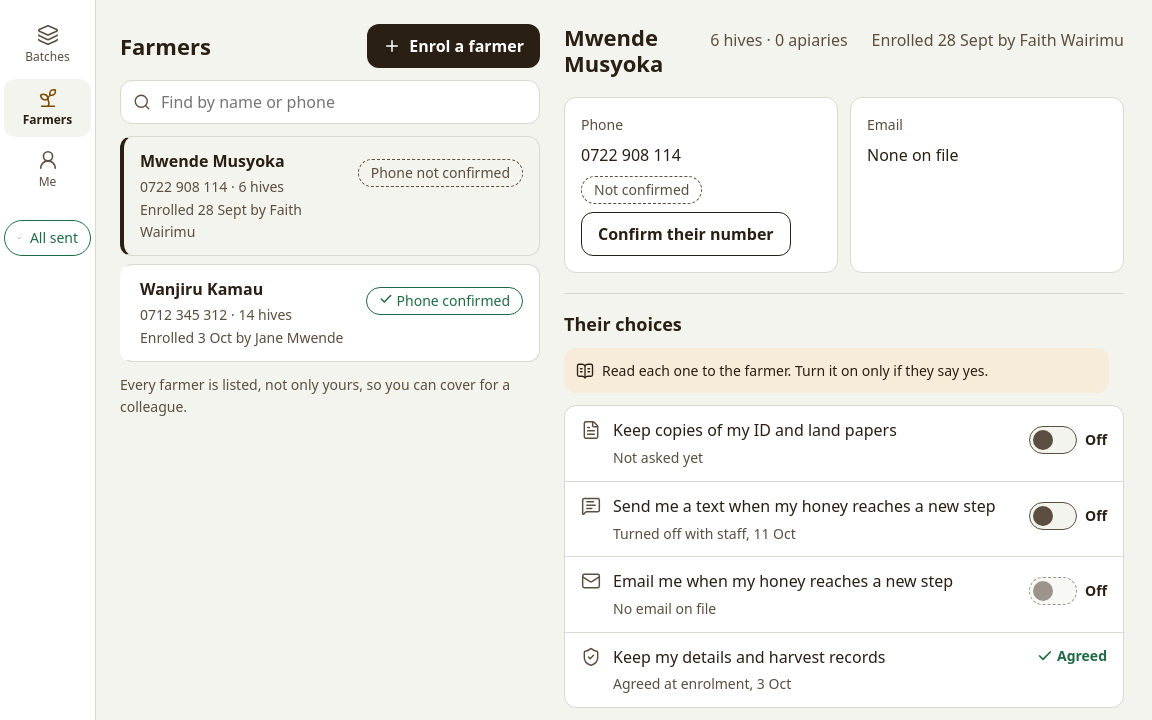
Test: Their choices (13 §4.5, D11) › the server's refusal of a farmer's own withdrawal says so, and can be removed
Click the switch named "Send me a text when my honey reaches a new step" in the row of "Turned off with staff, 11 Oct" at (1053, 516), box [1029, 494, 1077, 538]
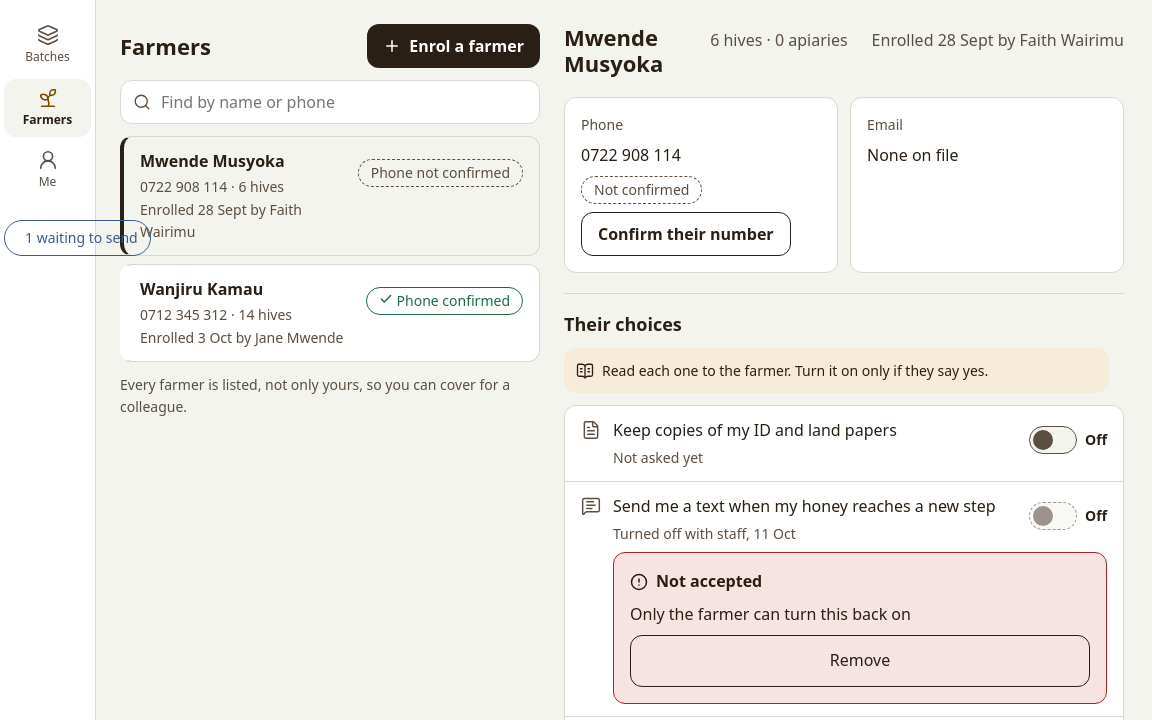
Now the message "Not accepted Only the farmer can turn this back on Remove" is shown, box [613, 552, 1107, 704]
Now the switch named "Send me a text when my honey reaches a new step" in the row of "Turned off with staff, 11 Oct" is disabled, box [1029, 494, 1077, 538]
Click the button "Remove" at (860, 661), box [630, 635, 1090, 687]
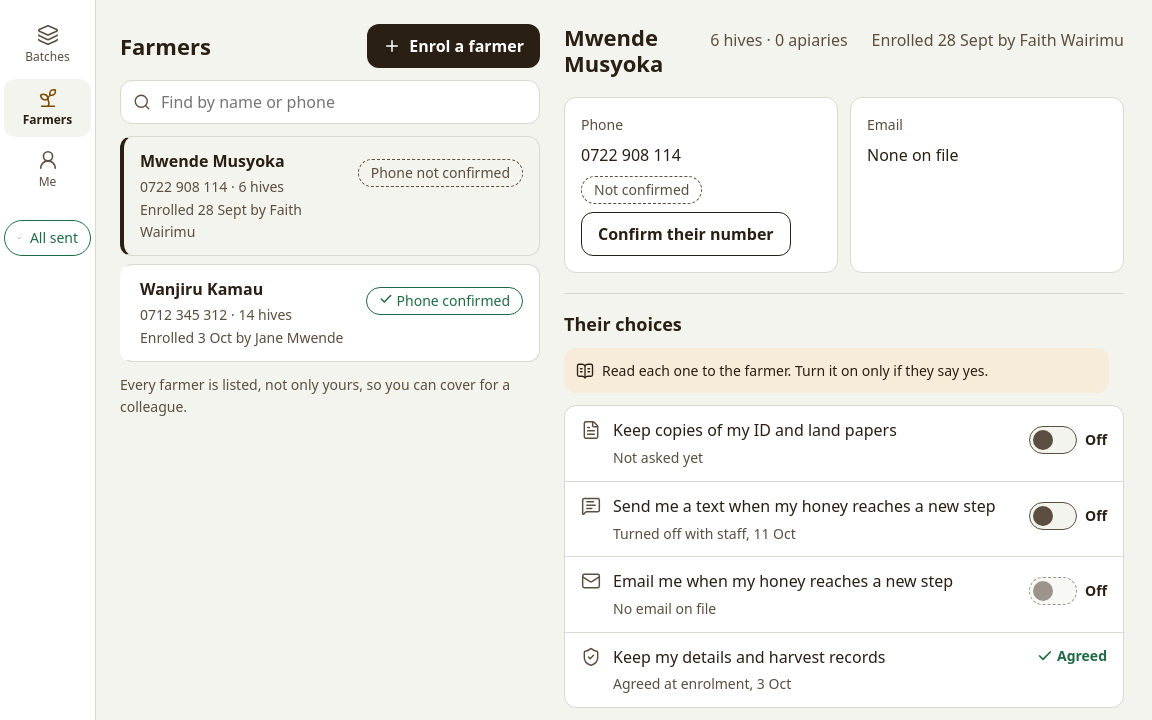
Now the switch named "Send me a text when my honey reaches a new step" in the row of "Turned off with staff, 11 Oct" is enabled, box [1029, 494, 1077, 538]
